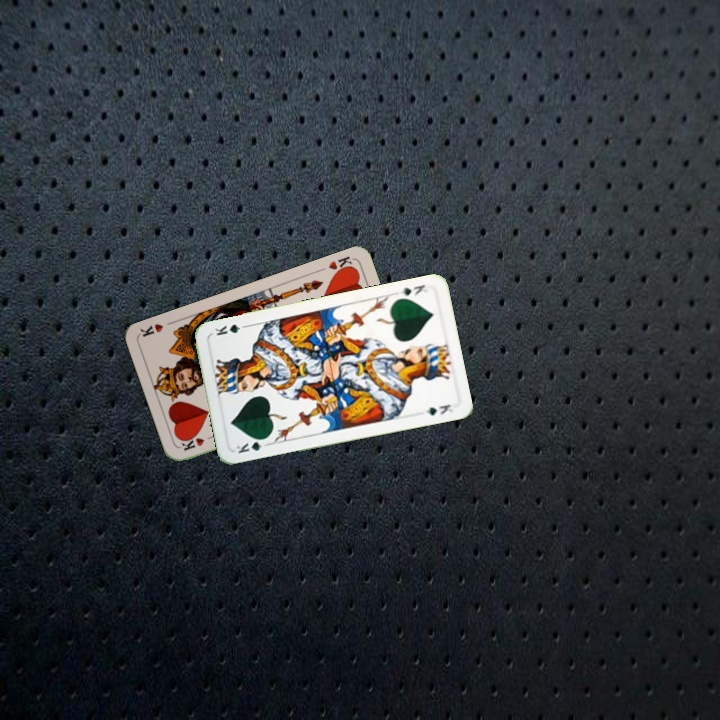GK: (232, 434, 270, 456), (396, 281, 429, 299)
HK: (178, 431, 217, 453), (324, 252, 357, 277)
